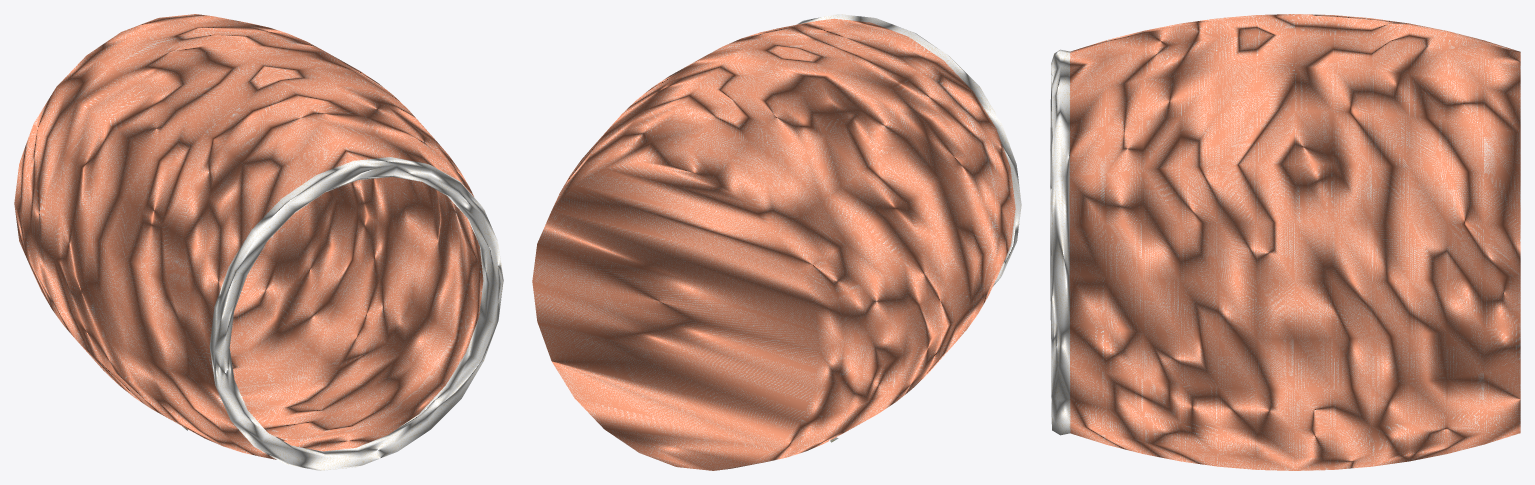
Rendered from model_align.obj.
The picture shows the model from 3 angles, left to right: view 1: azimuth 30°, elevation 25°; view 2: azimuth 150°, elevation 25°; view 3: azimuth 270°, elevation 25°; orthographic projection. The views are drawn at different scales.
Bounding box in the file's own units: 0.1625 × 0.1635 × 0.1666.
